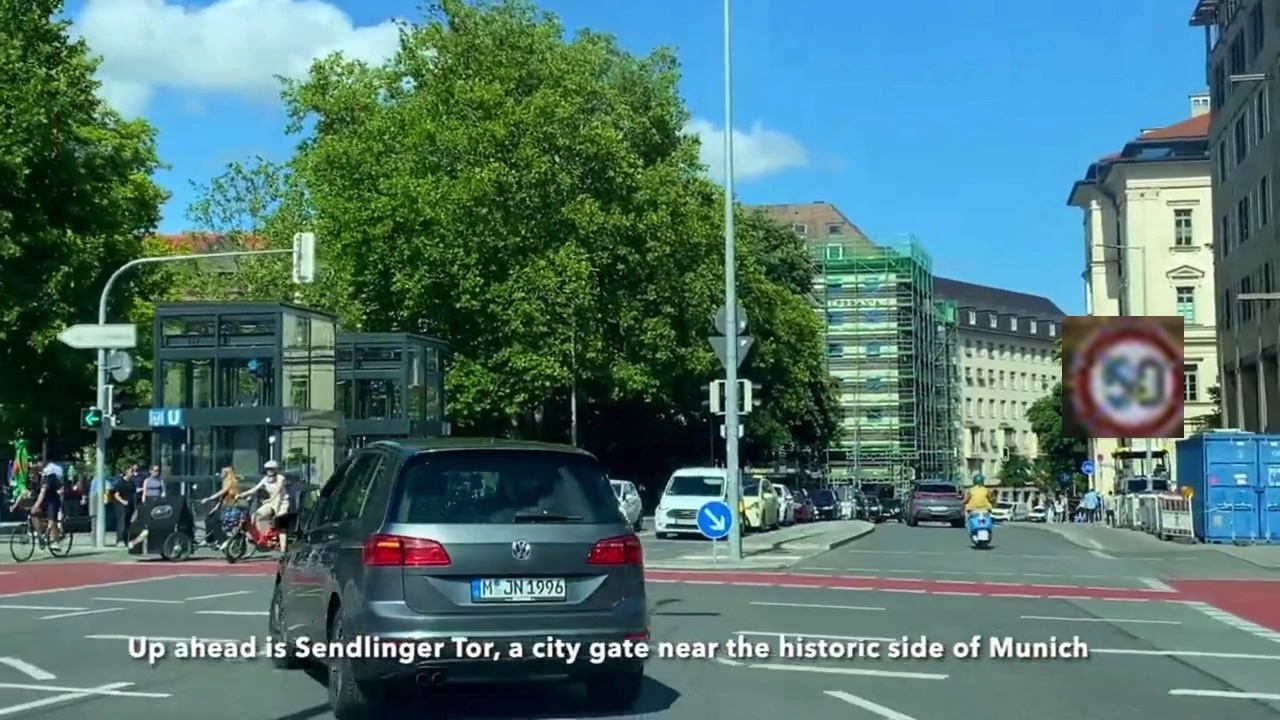Speed 50: (1062, 316, 1184, 438)
